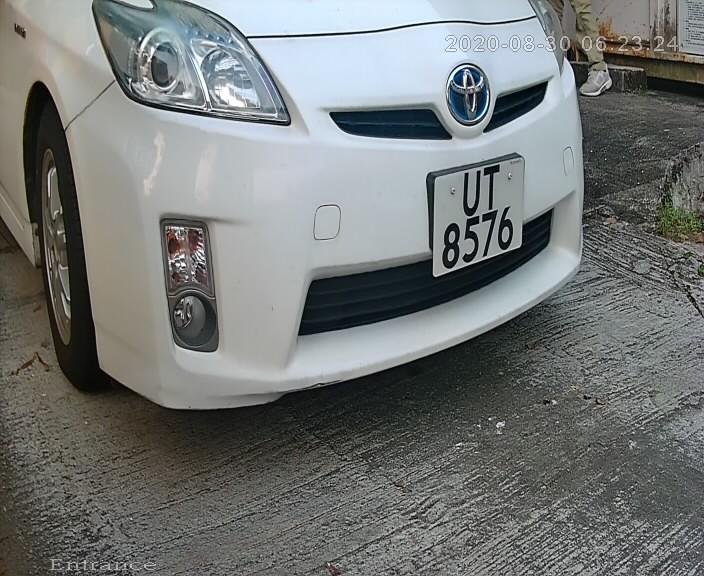License Plate: (419, 152, 529, 283)
